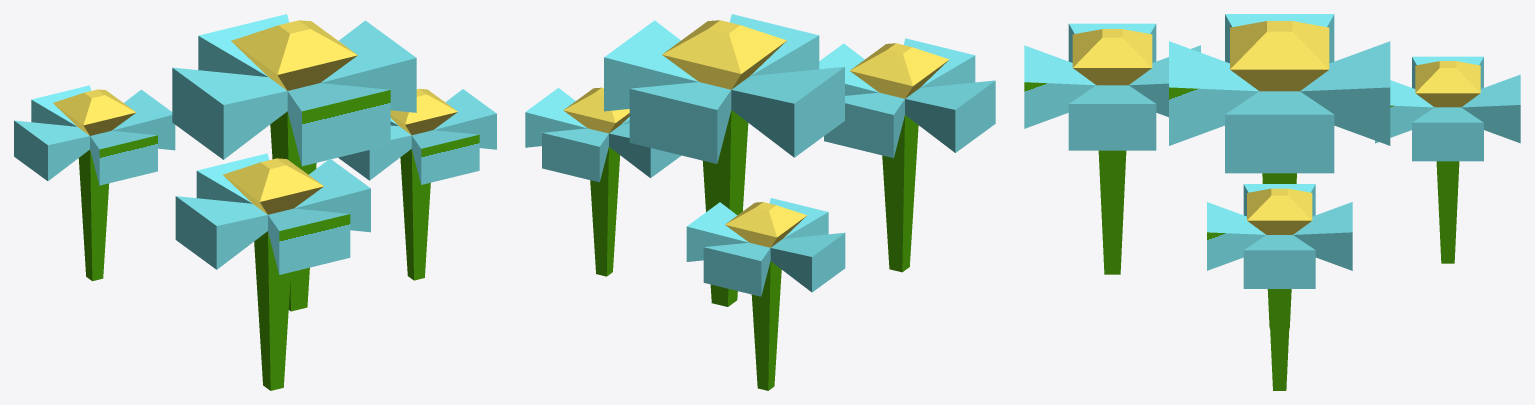
File: flowers_2.fbx
3 renders of one model, left to right at view 1: azimuth 30°, elevation 25°; view 2: azimuth 150°, elevation 25°; view 3: azimuth 270°, elevation 25°, orthographic. The views are drawn at different scales.
Visible parts, largest first — view 1: forest_flower_2_LOD0; view 2: forest_flower_2_LOD0; view 3: forest_flower_2_LOD0.
Boxes of the visible parts, box(x1,y1,x2,y2) form: forest_flower_2_LOD0: box(14, 14, 496, 390); forest_flower_2_LOD0: box(525, 14, 995, 390); forest_flower_2_LOD0: box(1024, 14, 1520, 390).
Size of what is drawn, in the model's own units: 113 by 81.56 by 123.
